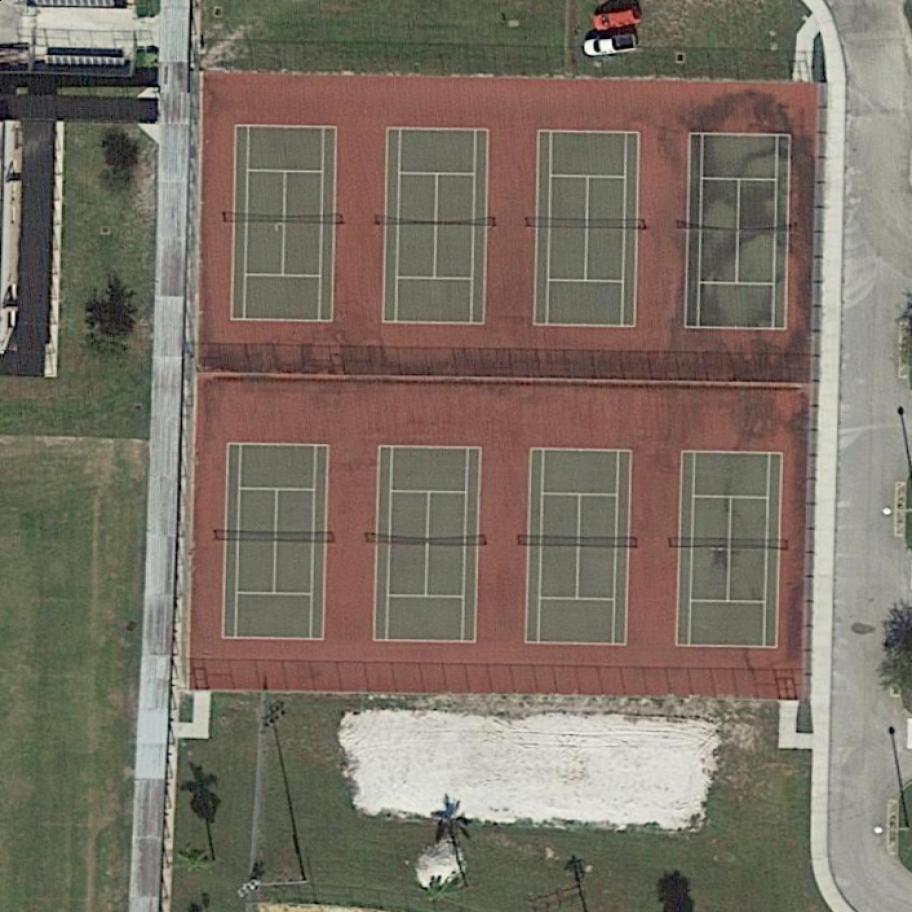small-vehicle: (581, 32, 638, 59), (590, 5, 643, 34)
